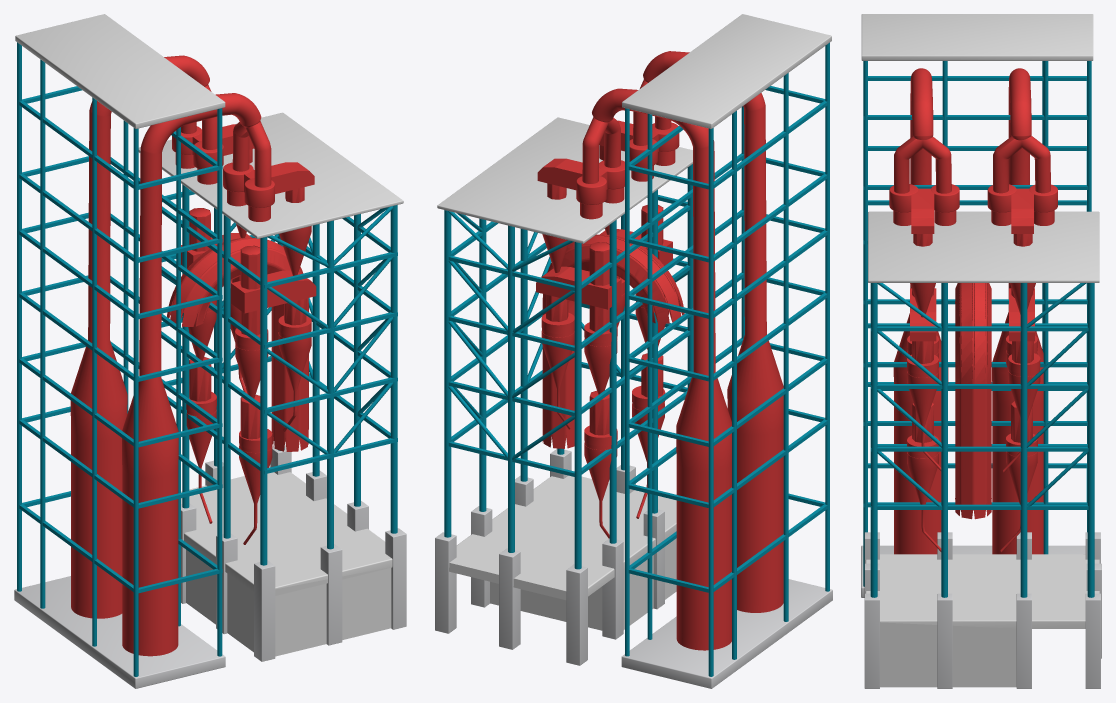
Rendered from xuanFengYuRe.gltf.
3 views of the same model, side by side, from view 1: azimuth 30°, elevation 25°; view 2: azimuth 150°, elevation 25°; view 3: azimuth 270°, elevation 25° (orthographic). The views are drawn at different scales.
Visible parts, largest first — view 1: 连接, 连接.1, 连接.6, 立方体.14, 立方体.11, 立方体.10, 圆柱.20, 圆柱.6, 圆柱.7, 圆柱.10, 圆柱.9, 圆柱.13 (+39 smaller); view 2: 连接.6, 连接.1, 连接, 立方体.14, 立方体.11, 立方体.10, 圆柱.20, 圆柱.9, 圆柱.13, 圆柱.11, 圆柱.8, 圆柱.10 (+39 smaller); view 3: 连接, 立方体.11, 立方体.14, 圆柱.20, 连接.6, 连接.1, 圆柱.28, 圆柱.25, 圆柱.27, 圆柱.7, 圆柱.26, 扫描.7 (+36 smaller).
Part boxes in pixels (left/top/right/bottom): 连接: left=181, top=472, right=392, bottom=656; 连接.1: left=122, top=93, right=261, bottom=656; 连接.6: left=70, top=55, right=209, bottom=618; 立方体.14: left=15, top=14, right=225, bottom=128; 立方体.11: left=138, top=112, right=403, bottom=238; 立方体.10: left=14, top=576, right=225, bottom=688; 圆柱.20: left=167, top=238, right=308, bottom=451; 圆柱.6: left=133, top=128, right=138, bottom=676; 圆柱.7: left=217, top=108, right=222, bottom=656; 圆柱.10: left=40, top=59, right=45, bottom=608; 圆柱.9: left=17, top=42, right=21, bottom=591; 圆柱.13: left=92, top=97, right=96, bottom=646; 连接.6: left=592, top=88, right=731, bottom=650; 连接.1: left=643, top=51, right=783, bottom=612; 连接: left=449, top=475, right=676, bottom=630; 立方体.14: left=622, top=14, right=831, bottom=128; 立方体.11: left=437, top=117, right=692, bottom=243; 立方体.10: left=621, top=579, right=832, bottom=688; 圆柱.20: left=542, top=234, right=684, bottom=448; 圆柱.9: left=708, top=128, right=713, bottom=676; 圆柱.13: left=783, top=73, right=788, bottom=621; 圆柱.11: left=647, top=113, right=652, bottom=639; 圆柱.8: left=625, top=108, right=629, bottom=656; 圆柱.10: left=732, top=111, right=736, bottom=659; 连接: left=865, top=554, right=1099, bottom=687; 立方体.11: left=868, top=211, right=1099, bottom=282; 立方体.14: left=861, top=14, right=1093, bottom=60; 圆柱.20: left=955, top=283, right=991, bottom=519; 连接.6: left=992, top=68, right=1043, bottom=554; 连接.1: left=893, top=68, right=948, bottom=554; 圆柱.28: left=1087, top=283, right=1094, bottom=597; 圆柱.25: left=870, top=283, right=877, bottom=597; 圆柱.27: left=1020, top=283, right=1027, bottom=597; 圆柱.7: left=863, top=61, right=867, bottom=586; 圆柱.26: left=941, top=283, right=947, bottom=597; 扫描.7: left=894, top=136, right=951, bottom=193.
Size of the model in its own units: 394 by 786 by 313.
